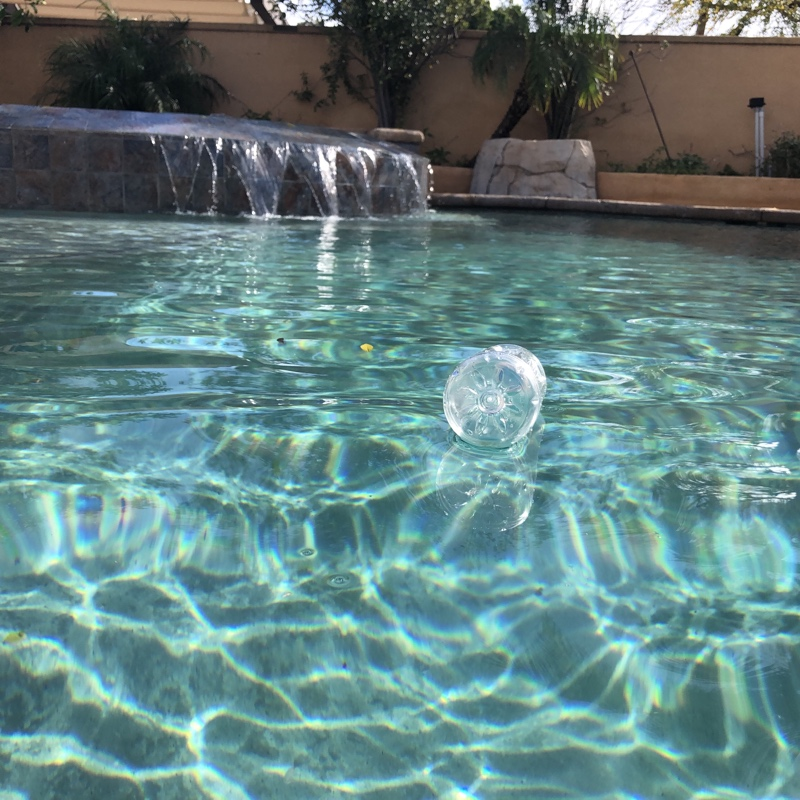Plastic Bottle: (438, 332, 552, 451)
